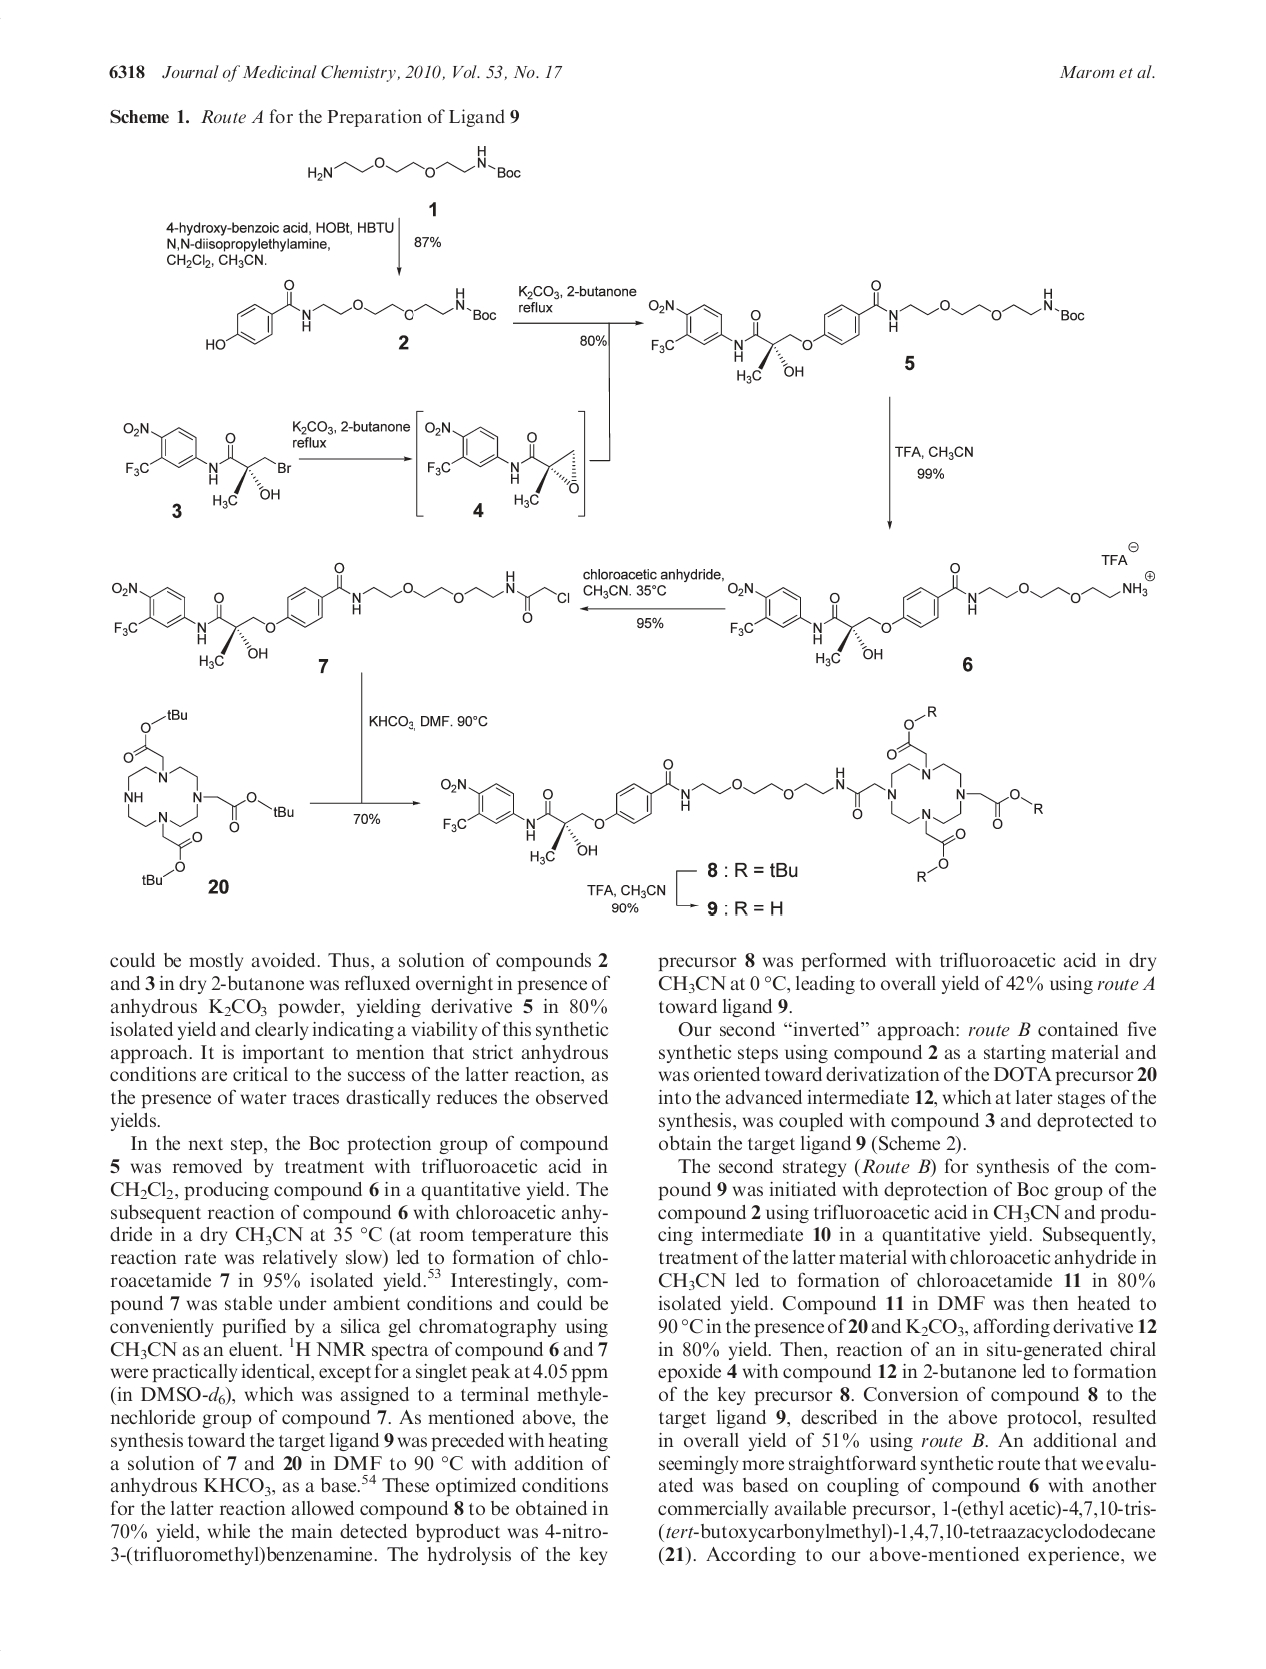exist_molecular: (442, 704, 1047, 884), (110, 561, 570, 669), (726, 561, 1164, 669), (648, 279, 1090, 384), (121, 707, 297, 888), (203, 283, 497, 352), (120, 414, 293, 509), (420, 416, 578, 509), (305, 144, 523, 184)
